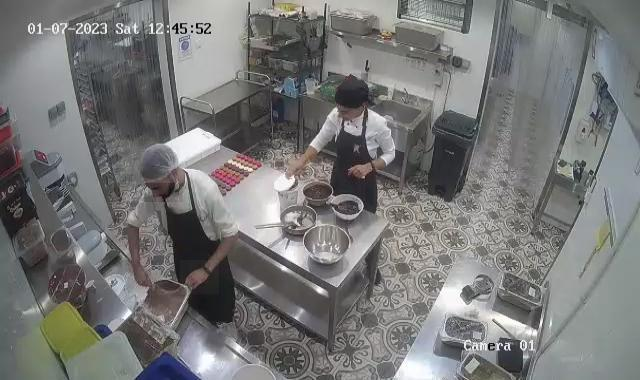gloves: (138, 145, 180, 181), (334, 73, 368, 111)
no_apron: (180, 260, 219, 294), (126, 261, 158, 294), (285, 155, 316, 179), (346, 160, 377, 184)
no_hairnet: (145, 183, 184, 202), (333, 111, 368, 126)
